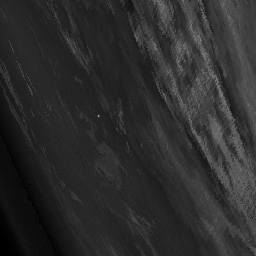Target: (95, 113, 100, 119)
